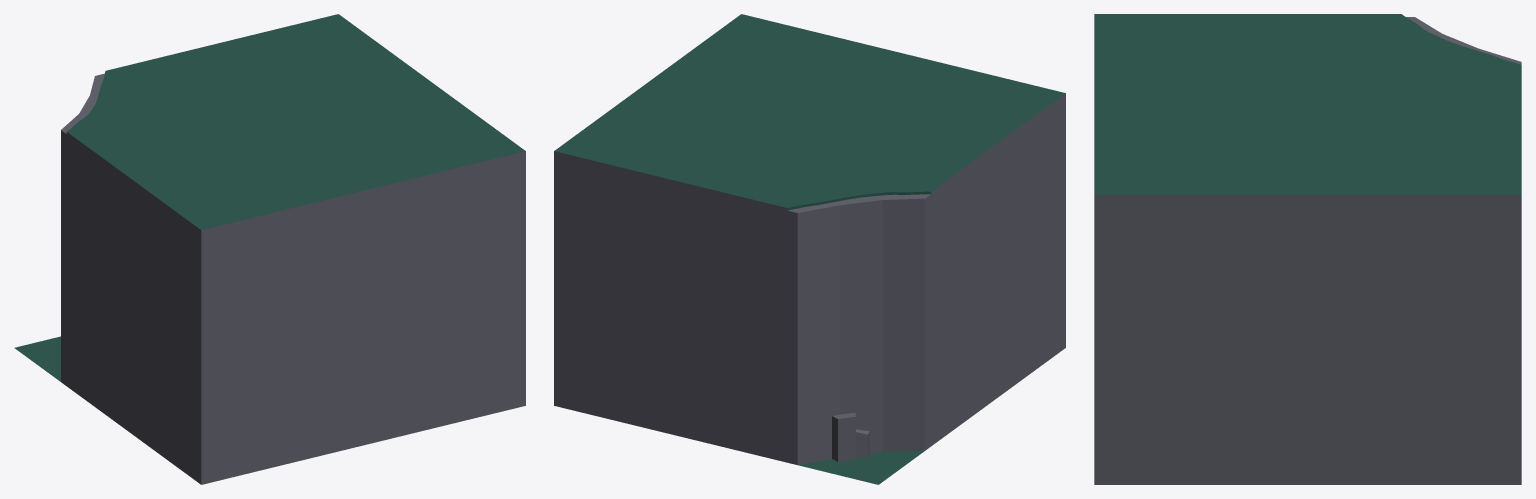
Rendered from WFCWedge.fbx.
3 views of the same model, side by side, from view 1: azimuth 30°, elevation 25°; view 2: azimuth 150°, elevation 25°; view 3: azimuth 270°, elevation 25° (orthographic). The views are drawn at different scales.
Parts seen in each view (by area): view 1: Plane.001; view 2: Plane.001; view 3: Plane.001.
Part boxes in pixels (x1,y1,x2,y2): Plane.001: [14, 14, 525, 484]; Plane.001: [554, 14, 1065, 484]; Plane.001: [1094, 14, 1521, 484].
Bounding box in the file's own units: 100 × 75 × 100.
